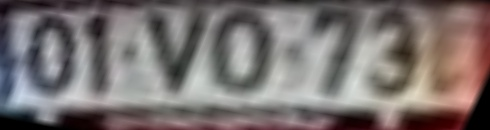0: (18, 14, 81, 105)
1: (78, 12, 116, 102)
3: (362, 7, 423, 105)
7: (308, 8, 372, 105)
O: (208, 9, 279, 101)
V: (140, 10, 220, 104)
